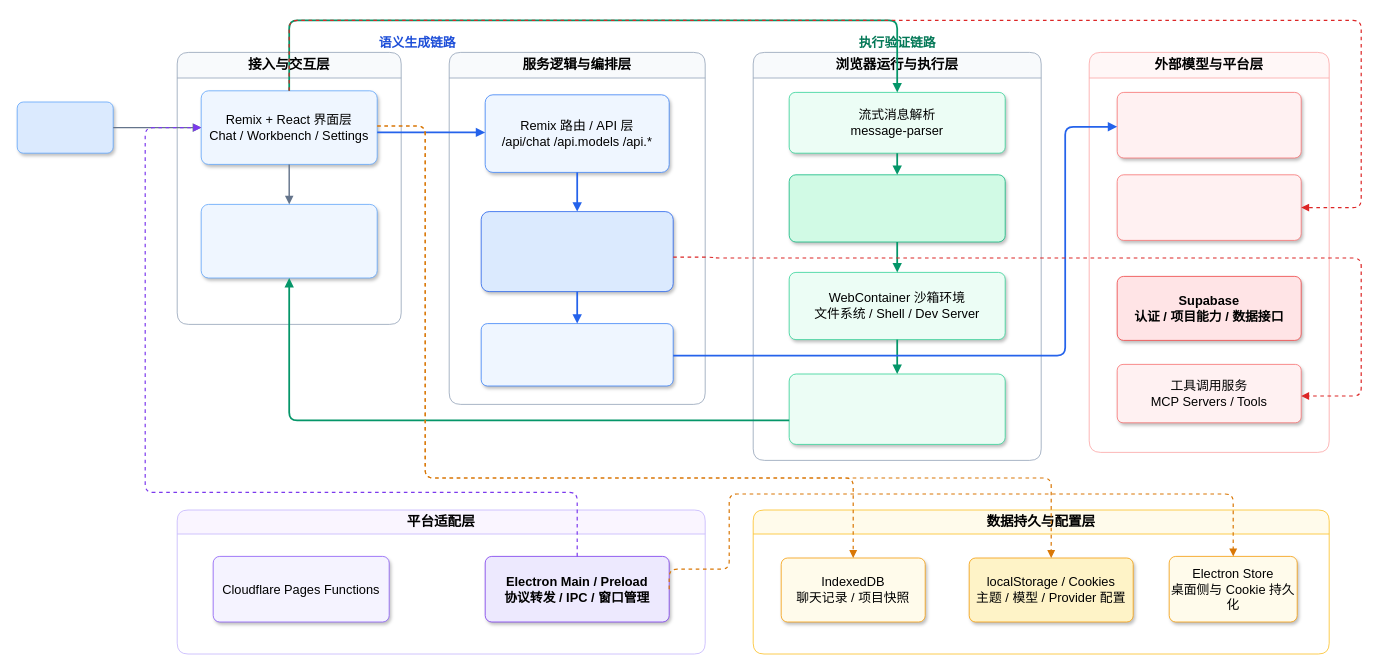
Some shapes in this 1382 by 668 pixel diagram are drawn without their labels. The centre of each missing label's shape, as x and y in pixels:
"LLM 编排与上下文处理 createSummary / selectContext / MCPService" belongs at point 577,252.
"动作执行与状态编排 WorkbenchStore / ActionRunner" belongs at point 897,209.
"多模型服务 OpenAI / DeepSeek / Google 等" belongs at point 1209,126.
"工作台子系统 Editor / Diff / Terminal / Preview" belongs at point 289,242.
"平台集成服务 GitHub / GitLab / Vercel / Netlify" belongs at point 1209,208.
"模型管理层 LLMManager / Provider Registry" belongs at point 577,356.
"用户" belongs at point 65,128.
"运行反馈 FilesStore / TerminalStore / PreviewsStore" belongs at point 897,410.
